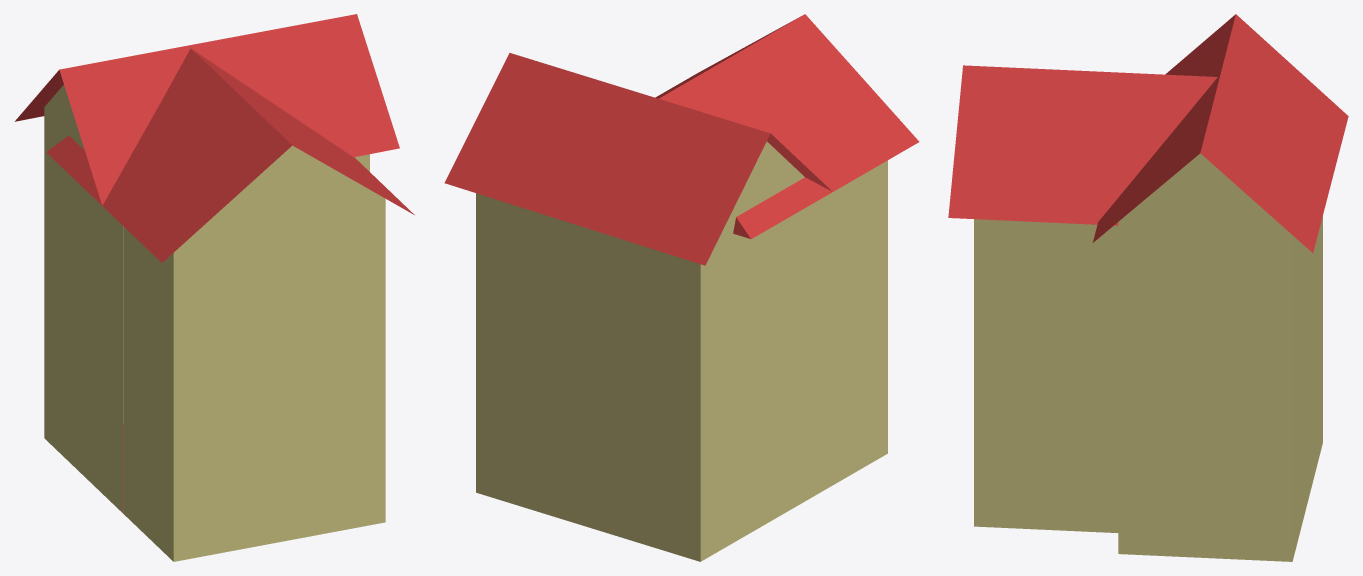
The picture shows the model from 3 angles, left to right: view 1: azimuth 30°, elevation 25°; view 2: azimuth 150°, elevation 25°; view 3: azimuth 270°, elevation 25°; orthographic projection. The views are drawn at different scales.
Visible parts, largest first — view 1: group_9, group_7, group_5, group_3, group_4; view 2: group_5, group_3, group_7, group_9, group_4, group_8; view 3: group_5, group_9, group_7, group_3, group_4, group_8.
Boxes of the visible parts, box(x1,y1,x2,y2) form: group_9: box(123, 145, 385, 561); group_7: box(46, 48, 414, 262); group_5: box(44, 85, 369, 512); group_3: box(14, 16, 399, 205); group_4: box(18, 14, 399, 157); group_5: box(476, 141, 814, 561); group_3: box(444, 53, 770, 265); group_7: box(655, 14, 919, 239); group_9: box(814, 160, 887, 495); group_4: box(446, 53, 831, 264); group_8: box(718, 20, 918, 238); group_5: box(1100, 153, 1322, 561); group_9: box(974, 219, 1100, 532); group_7: box(948, 65, 1217, 225); group_3: box(1093, 14, 1348, 252); group_4: box(1093, 18, 1347, 251); group_8: box(949, 77, 973, 216).
Bounding box in the file's own units: 11.97 × 12.97 × 14.81.
